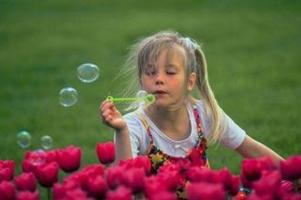person: (100, 32, 294, 177)
